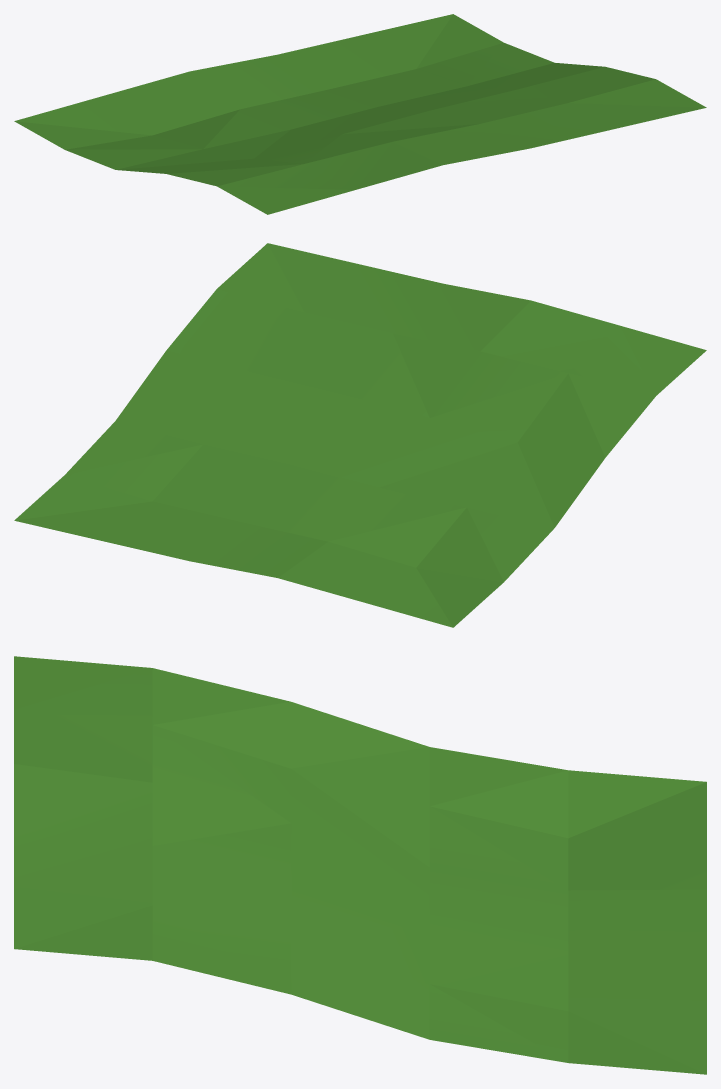
The model's file is terrains_terrain-plane-slope1.fbx.
3 views of the same model, one above another, from view 1: azimuth 30°, elevation 25°; view 2: azimuth 150°, elevation 25°; view 3: azimuth 270°, elevation 25° (orthographic). The views are drawn at different scales.
Visible parts, largest first — view 1: terrains_terrain_plane_slope1; view 2: terrains_terrain_plane_slope1; view 3: terrains_terrain_plane_slope1.
Part boxes in pixels (x1,y1,x2,y2): terrains_terrain_plane_slope1: (14,14,706,214); terrains_terrain_plane_slope1: (14,243,706,627); terrains_terrain_plane_slope1: (14,656,706,1074).
Bounding box in the file's own units: 200 × 43 × 200.
